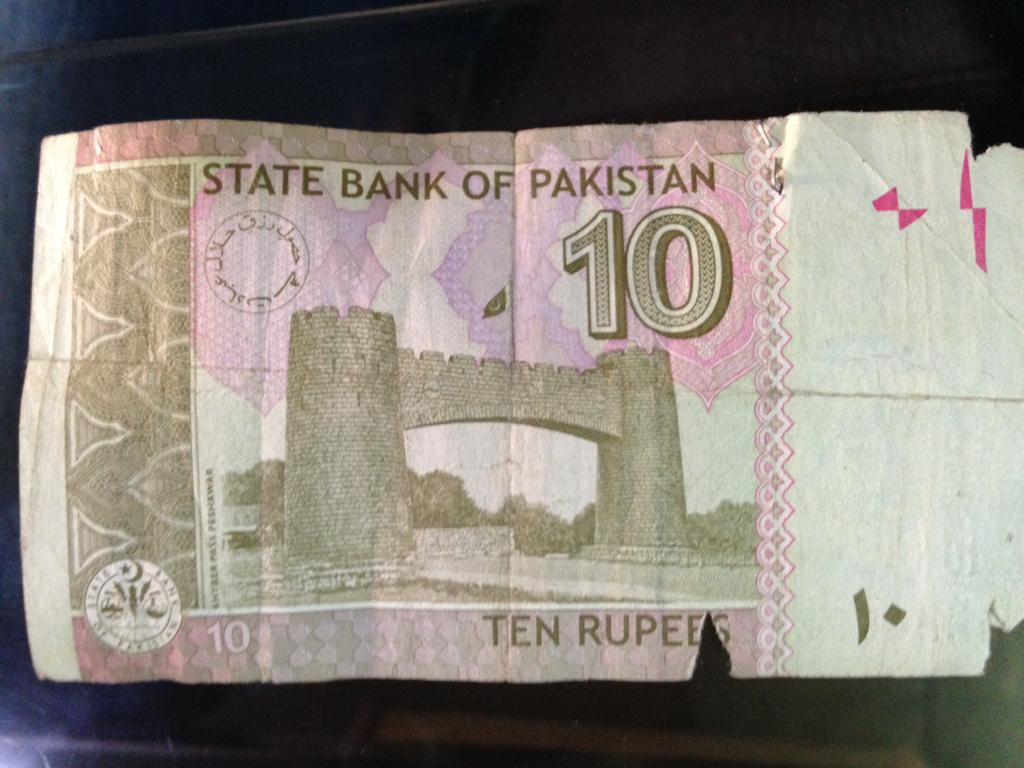10 rupee: (32, 105, 1019, 717)
